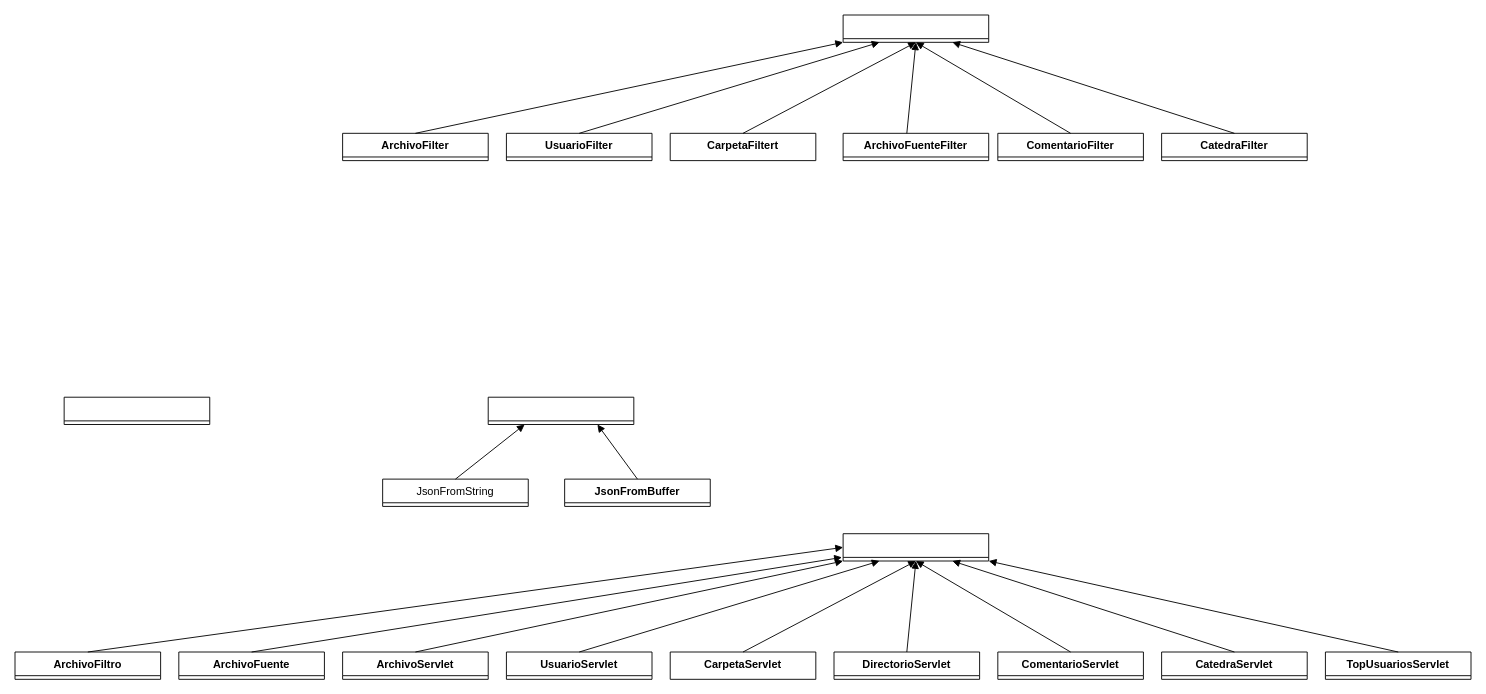
This 1486x694 diagram has some shape labels left out. The centre of each missing label's shape, as x and y in pixels:
"HttpFilter" goes at (x=915, y=28).
"HttpServlet" goes at (x=915, y=547).
"JsonBody" goes at (x=560, y=410).
"RequestControl" goes at (x=136, y=410).
